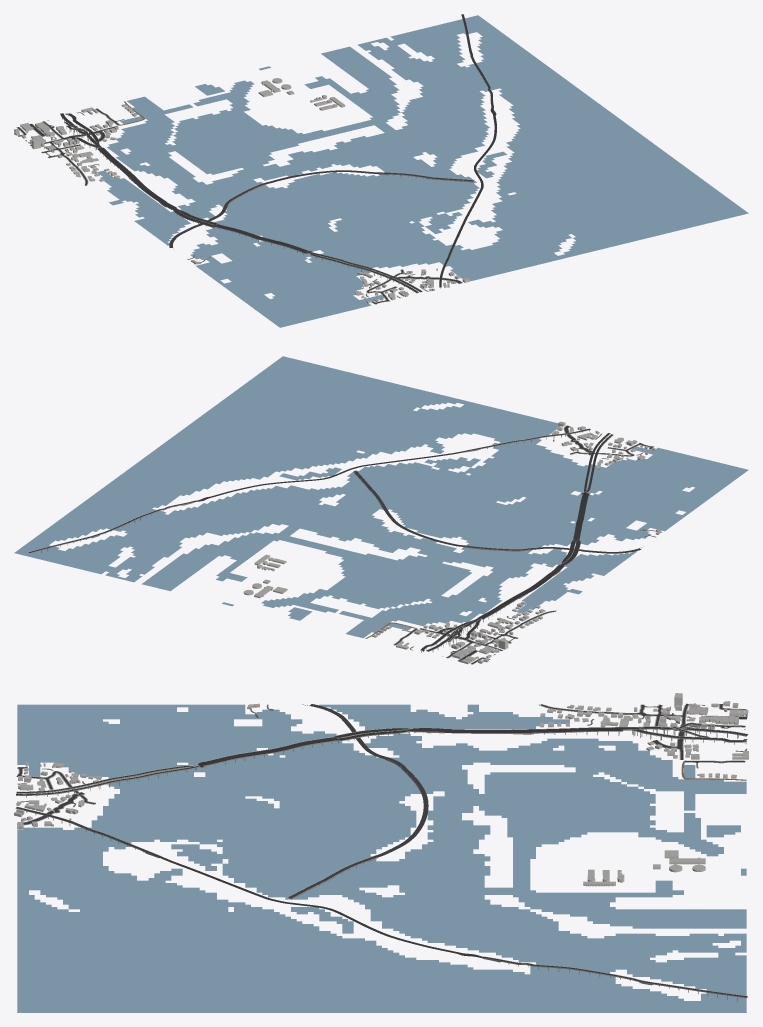
Rendered from chunk_7_7.glb.
3 views of the same model, one above another, from view 1: azimuth 30°, elevation 25°; view 2: azimuth 150°, elevation 25°; view 3: azimuth 270°, elevation 25° (orthographic). The views are drawn at different scales.
Parts seen in each view (by area): view 1: Water_7_7, Roads_7_7, RoadSides_7_7, Buildings_7_7, Filler_7_7; view 2: Water_7_7, Roads_7_7, RoadSides_7_7, Buildings_7_7, Filler_7_7; view 3: Water_7_7, Roads_7_7, RoadSides_7_7, Buildings_7_7, Filler_7_7.
Boxes of the visible parts, bbox=[...] form: Water_7_7: bbox=[97, 15, 748, 327]; Roads_7_7: bbox=[17, 14, 496, 304]; RoadSides_7_7: bbox=[16, 14, 493, 304]; Buildings_7_7: bbox=[14, 78, 469, 303]; Filler_7_7: bbox=[14, 104, 456, 300]; Water_7_7: bbox=[14, 356, 747, 637]; Roads_7_7: bbox=[28, 425, 661, 664]; RoadSides_7_7: bbox=[28, 425, 654, 664]; Buildings_7_7: bbox=[243, 421, 661, 664]; Filler_7_7: bbox=[372, 426, 637, 663]; Water_7_7: bbox=[17, 704, 746, 1012]; Roads_7_7: bbox=[16, 703, 747, 997]; RoadSides_7_7: bbox=[16, 704, 748, 1001]; Buildings_7_7: bbox=[16, 701, 748, 886]; Filler_7_7: bbox=[14, 693, 738, 821].
Size of the model in its own units: 2057 by 34.72 by 2064.
